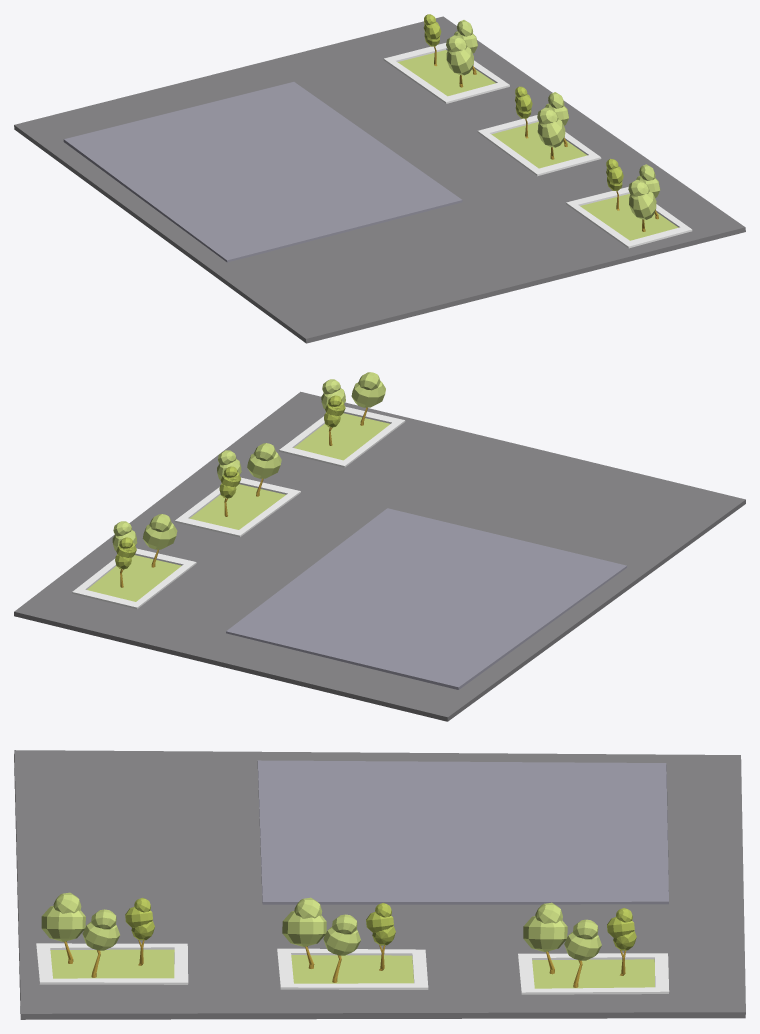
Rendered from biggarden.glb.
3 renders of one model, top to bottom at view 1: azimuth 30°, elevation 25°; view 2: azimuth 150°, elevation 25°; view 3: azimuth 270°, elevation 25°, orthographic. The views are drawn at different scales.
Parts seen in each view (by area): view 1: Sphere_1_30_5; view 2: Sphere_1_30_5; view 3: Sphere_1_30_5.
Part boxes in pixels (<box>): Sphere_1_30_5: <box>14,14,745,343</box>; Sphere_1_30_5: <box>14,372,745,721</box>; Sphere_1_30_5: <box>14,750,745,1019</box>.
Bounding box in the file's own units: 1.12 × 0.1522 × 1.31.
